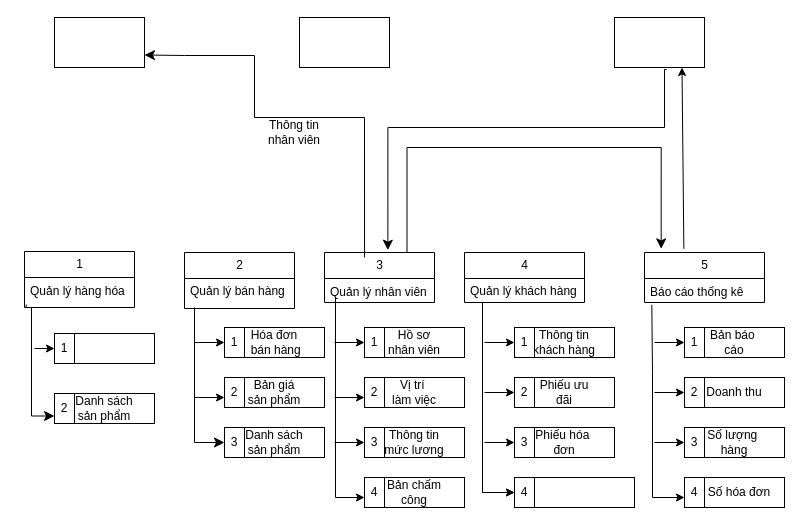
This 803x525 diagram has some shape labels left out. Each missing label, with the box of its shape:
Hóa đơn nhập hàng: (54, 332, 154, 364)
Khách hàng: (298, 16, 390, 68)
Nhân viên: (54, 16, 144, 68)
Quản lý: (614, 16, 704, 68)
Thông tin yêu cầu đổi trả: (514, 476, 634, 508)
